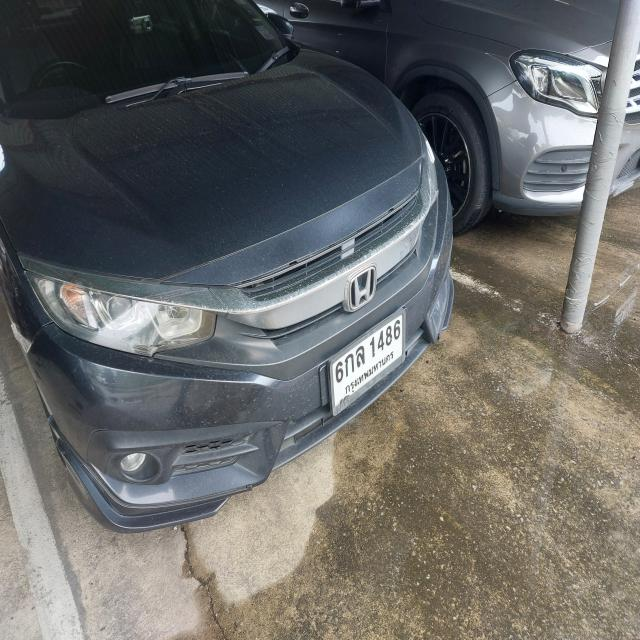license_plate: (325, 305, 408, 419)
